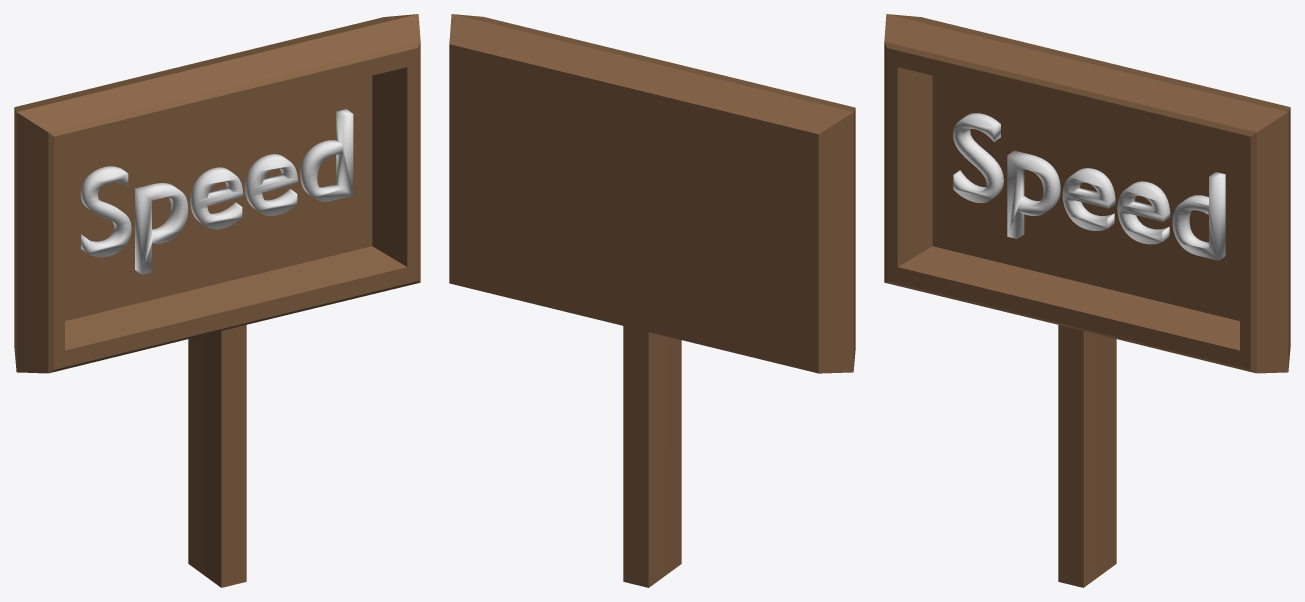
Rendered from label.fbx.
3 views of the same model, side by side, from view 1: azimuth 30°, elevation 25°; view 2: azimuth 150°, elevation 25°; view 3: azimuth 330°, elevation 25° (orthographic).
Parts seen in each view (by area): view 1: Cube; view 2: Cube; view 3: Cube.
Boxes of the visible parts, left/top/right/bottom form: Cube: left=14, top=14, right=420, bottom=587; Cube: left=449, top=14, right=855, bottom=587; Cube: left=884, top=14, right=1290, bottom=587.
Bounding box in the file's own units: 352 × 426 × 56.12.
